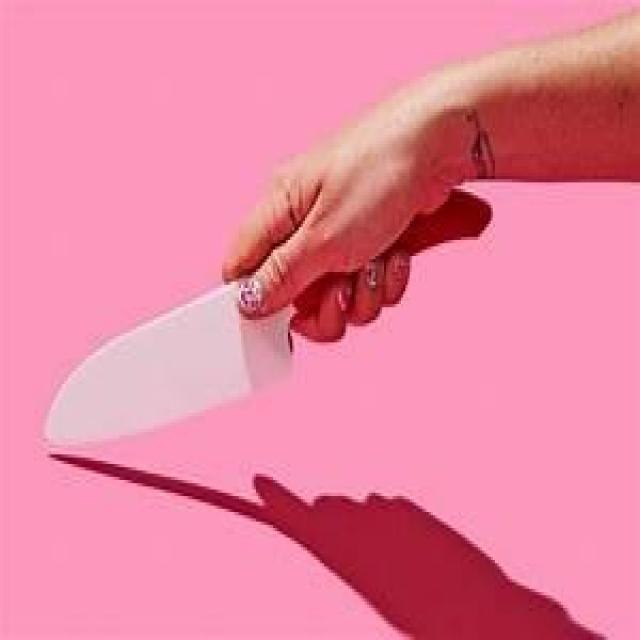Knife: (37, 69, 512, 462)
